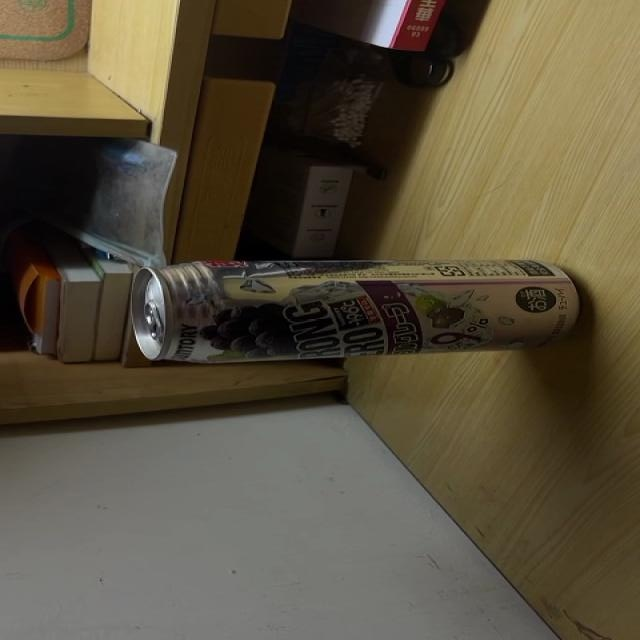Liquor: (126, 258, 583, 362)
